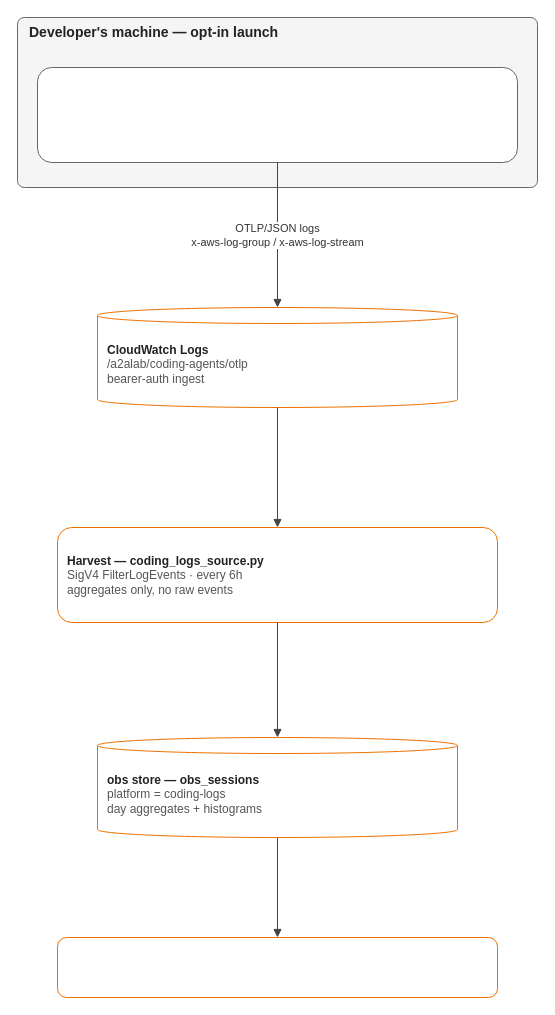
Some shapes in this 555 by 1015 pixel diagram are drawn without their labels. The shapes that lost their labels are listed below. From the top down, each one's centre as x and y in pixels, then its label:
[277,114]: Claude Code scripts/claude_otel.sh OTEL_LOGS_EXPORTER=otlp · content flags OFF
[277,967]: Console — Coding Agents Telemetry · Behaviour
